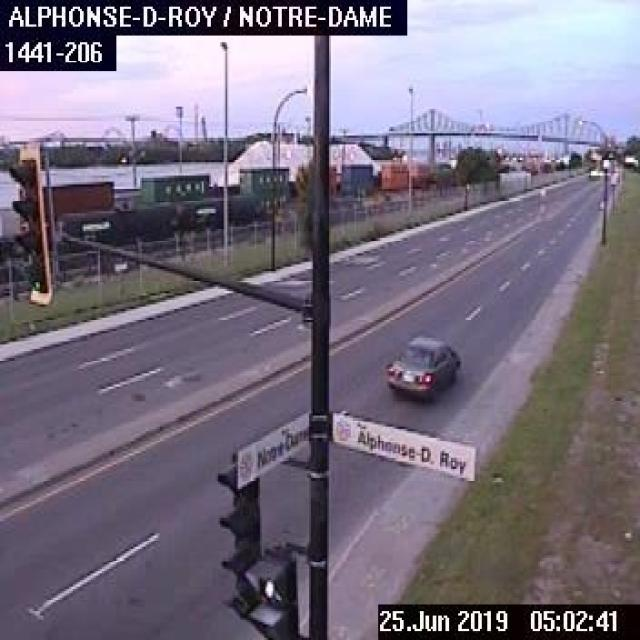vehicle: (382, 334, 462, 394)
